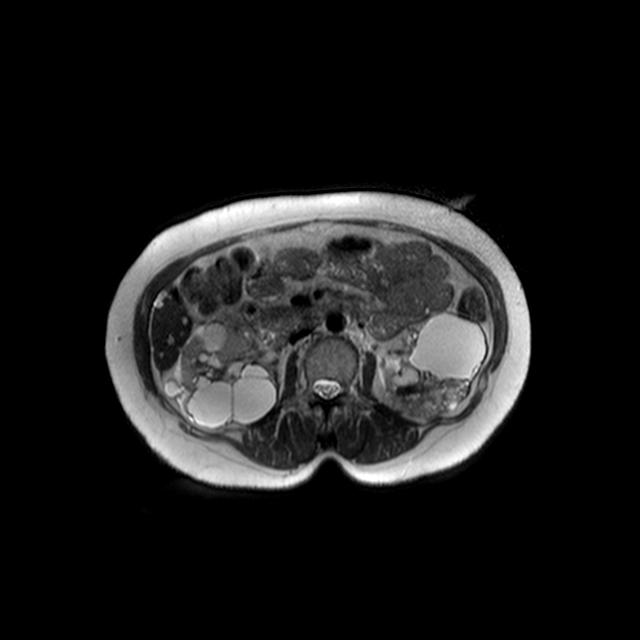sag: (165, 317, 276, 432)
sol: (379, 312, 488, 423)
